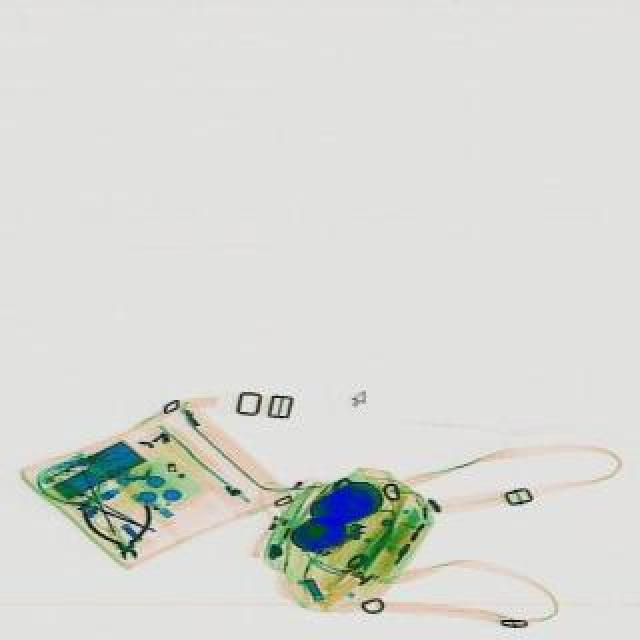wrench: (84, 494, 164, 566)
